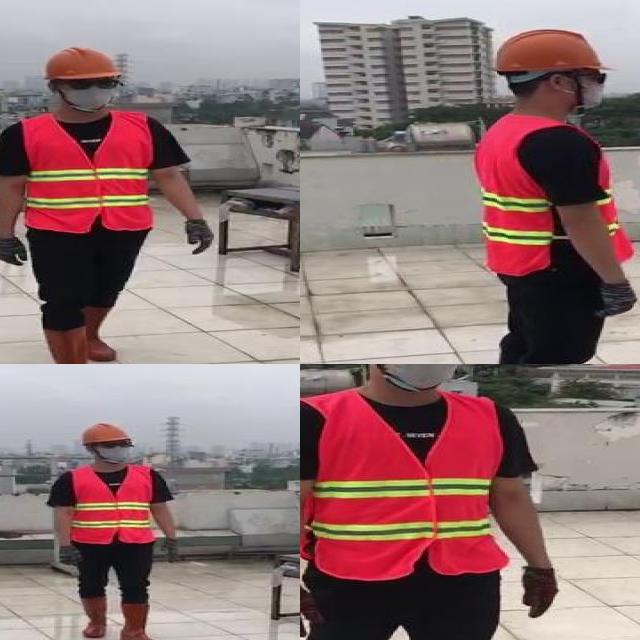boots: (80, 303, 118, 362), (41, 328, 101, 364), (121, 603, 160, 640), (77, 595, 109, 639)
face_mask: (374, 364, 468, 391), (59, 74, 121, 110), (569, 70, 613, 108), (95, 436, 137, 462)
glasses: (59, 74, 127, 94), (94, 439, 135, 451)
hand_glove: (517, 566, 562, 618), (590, 281, 640, 319), (300, 586, 325, 638), (183, 217, 216, 255), (0, 238, 32, 267), (159, 537, 182, 564), (56, 546, 80, 567)
head_helmet: (495, 27, 611, 76), (38, 44, 124, 84), (77, 422, 134, 447)
person: (300, 364, 583, 640), (0, 37, 224, 364), (457, 25, 640, 364), (49, 416, 190, 640)
vest: (306, 396, 505, 576), (474, 112, 628, 274), (20, 113, 155, 233), (70, 464, 154, 543)
